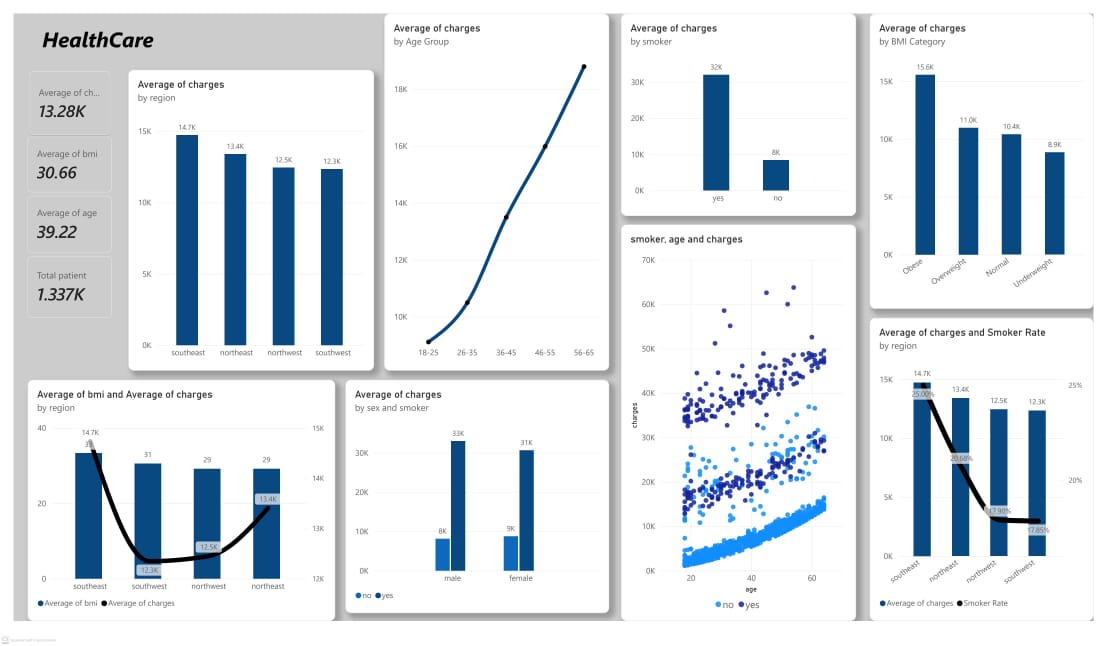

The dashboard page shown, as its layout file describes it:
{"tool":"powerbi","page":{"name":"Page 1","canvas":[1920,1080],"ordinal":0},"visuals":[{"type":"clusteredColumnChart","fields":{"Category":["insurance_clean_1.smoker"],"Y":["Avg(insurance_clean_1.charges)"]},"box":[1080.4,0,418,360.1],"z":0},{"type":"scatterChart","fields":{"Series":["insurance_clean_1.smoker"],"X":["insurance_clean_1.age"],"Y":["insurance_clean_1.charges"]},"box":[1080.4,374.6,418,705.8],"z":1000},{"type":"clusteredColumnChart","fields":{"Category":["insurance_clean_1.region"],"Y":["Avg(insurance_clean_1.charges)"]},"box":[204.5,99.5,436.1,535.7],"z":2000},{"type":"clusteredColumnChart","fields":{"Category":["insurance_clean_1.BMI Category"],"Y":["Avg(insurance_clean_1.charges)"]},"box":[1521.9,0,398.1,524.8],"z":3000},{"type":"lineClusteredColumnComboChart","fields":{"Category":["insurance_clean_1.region"],"Y":["Avg(insurance_clean_1.charges)"],"Y2":["insurance_clean_1.Smoker Rate"]},"box":[1521.9,541.1,398.1,539.3],"z":4000},{"type":"lineClusteredColumnComboChart","fields":{"Category":["insurance_clean_1.region"],"Y":["Avg(insurance_clean_1.bmi)"],"Y2":["Avg(insurance_clean_1.charges)"]},"box":[25.3,651.5,546.5,428.9],"z":5000},{"type":"lineChart","fields":{"Category":["insurance_clean_1.Age Group"],"Y":["Avg(insurance_clean_1.charges)"]},"box":[658.7,0,399.9,635.2],"z":6000},{"type":"clusteredColumnChart","fields":{"Category":["insurance_clean_1.sex"],"Series":["insurance_clean_1.smoker"],"Y":["Avg(insurance_clean_1.charges)"]},"box":[589.9,651.5,468.7,414.4],"z":7000},{"type":"textbox","box":[100,100,300,300],"z":8000},{"type":"textbox","box":[50.7,19.9,385.5,79.6],"z":9000},{"type":"cardVisual","fields":{"Data":["Avg(insurance_clean_1.charges)"]},"box":[25.3,99.5,150.2,119.4],"z":10000},{"type":"cardVisual","fields":{"Data":["Avg(insurance_clean_1.bmi)"]},"box":[25.3,219,150.2,99.5],"z":11000},{"type":"cardVisual","fields":{"Data":["Avg(insurance_clean_1.age)"]},"box":[25.3,323.9,150.2,101.3],"z":12000},{"type":"cardVisual","fields":{"Data":["CountNonNull(insurance_clean_1.charges)"]},"box":[25.3,430.7,150.2,110.4],"z":13000}]}

Visuals, with their boxes on the page's 1920x1080 design canvas (x1, y1, x2, y2). These are canvas units, not pixel positions in the 1107x646 screenshot, which may show the page scaled, cropped or inside an application window:
clusteredColumnChart - insurance_clean_1.smoker x Avg(insurance_clean_1.charges): BBox(1080, 0, 1498, 360)
scatterChart - insurance_clean_1.smoker x insurance_clean_1.age: BBox(1080, 375, 1498, 1080)
clusteredColumnChart - insurance_clean_1.region x Avg(insurance_clean_1.charges): BBox(204, 100, 641, 635)
clusteredColumnChart - insurance_clean_1.BMI Category x Avg(insurance_clean_1.charges): BBox(1522, 0, 1920, 525)
lineClusteredColumnComboChart - insurance_clean_1.region x Avg(insurance_clean_1.charges): BBox(1522, 541, 1920, 1080)
lineClusteredColumnComboChart - insurance_clean_1.region x Avg(insurance_clean_1.bmi): BBox(25, 652, 572, 1080)
lineChart - insurance_clean_1.Age Group x Avg(insurance_clean_1.charges): BBox(659, 0, 1059, 635)
clusteredColumnChart - insurance_clean_1.sex x insurance_clean_1.smoker: BBox(590, 652, 1059, 1066)
textbox: BBox(100, 100, 400, 400)
textbox: BBox(51, 20, 436, 100)
cardVisual - Avg(insurance_clean_1.charges): BBox(25, 100, 176, 219)
cardVisual - Avg(insurance_clean_1.bmi): BBox(25, 219, 176, 318)
cardVisual - Avg(insurance_clean_1.age): BBox(25, 324, 176, 425)
cardVisual - CountNonNull(insurance_clean_1.charges): BBox(25, 431, 176, 541)
